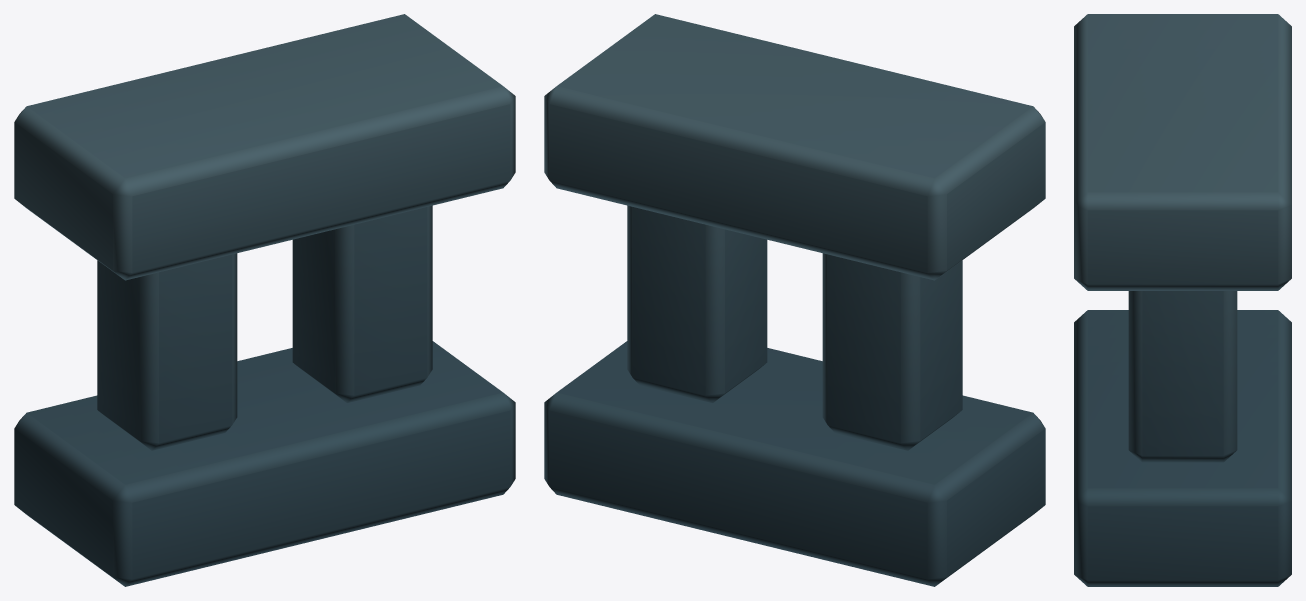
Rendered from fence_01_hue_3.fbx.
3 views of the same model, side by side, from view 1: azimuth 30°, elevation 25°; view 2: azimuth 150°, elevation 25°; view 3: azimuth 270°, elevation 25° (orthographic). The views are drawn at different scales.
Visible parts, largest first — view 1: fence_01_hue_3; view 2: fence_01_hue_3; view 3: fence_01_hue_3.
Part boxes in pixels (x1,y1,x2,y2): fence_01_hue_3: (14, 14, 515, 586); fence_01_hue_3: (544, 14, 1045, 586); fence_01_hue_3: (1074, 14, 1291, 586).
Bounding box in the file's own units: 103 × 100 × 50.
